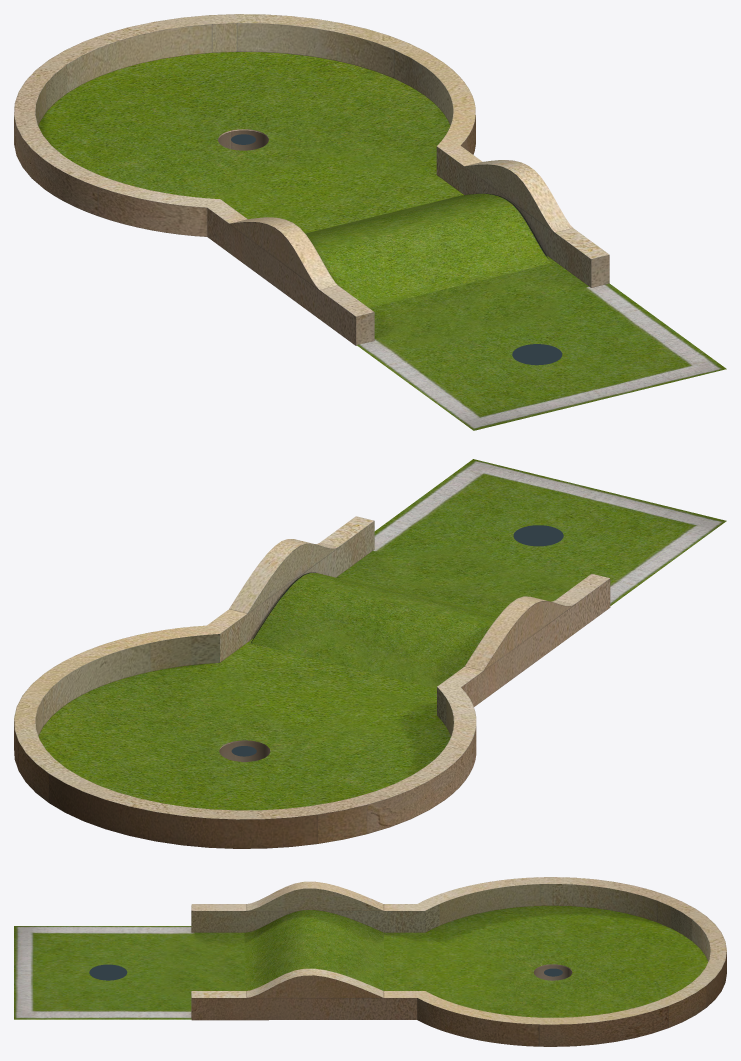
The model's file is pista3-resalto.glb.
3 views of the same model, one above another, from view 1: azimuth 30°, elevation 25°; view 2: azimuth 150°, elevation 25°; view 3: azimuth 270°, elevation 25° (orthographic). The views are drawn at different scales.
Parts seen in each view (by area): view 1: circuito-suelo, paredes, punto-pelota, foso; view 2: circuito-suelo, paredes, punto-pelota, foso; view 3: circuito-suelo, paredes, punto-pelota, foso.
Part boxes in pixels (left/top/right/bottom): circuito-suelo: left=38, top=52, right=726, bottom=430; paredes: left=14, top=14, right=609, bottom=345; punto-pelota: left=512, top=344, right=562, bottom=365; foso: left=218, top=129, right=268, bottom=150; circuito-suelo: left=38, top=459, right=726, bottom=810; paredes: left=14, top=516, right=610, bottom=848; punto-pelota: left=513, top=525, right=563, bottom=546; foso: left=219, top=740, right=270, bottom=761; circuito-suelo: left=14, top=905, right=708, bottom=1019; paredes: left=191, top=877, right=726, bottom=1046; punto-pelota: left=89, top=964, right=127, bottom=980; foso: left=533, top=964, right=572, bottom=980.
Bounding box in the file's own units: 2.2 × 0.5582 × 4.5.
Materials: 5 (3 with a texture image).
